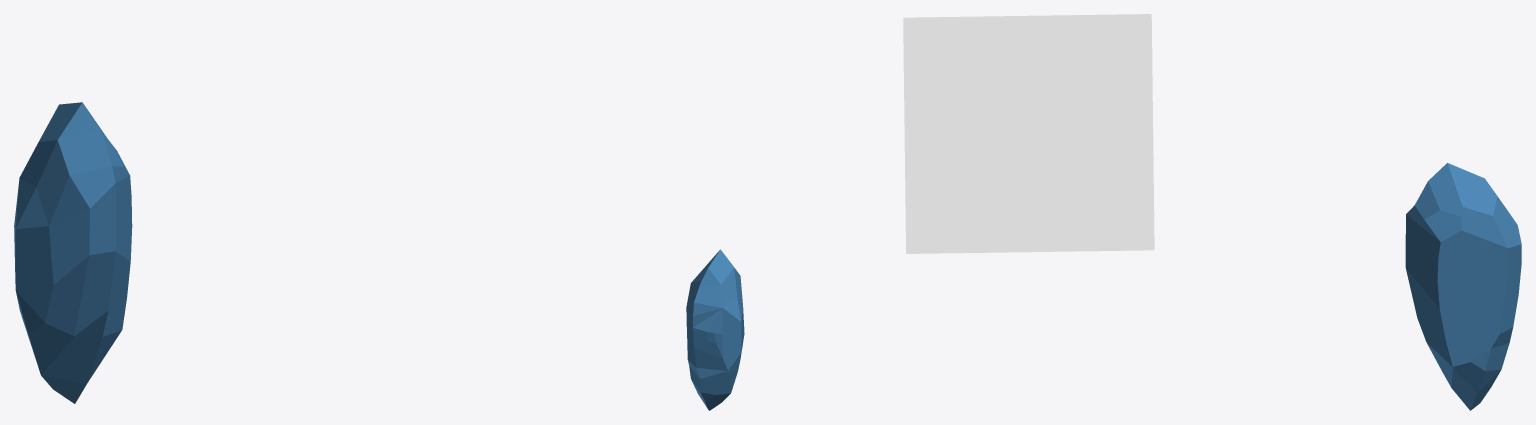
File: crystal-etheria.gltf
The picture shows the model from 3 angles, left to right: view 1: azimuth 30°, elevation 25°; view 2: azimuth 150°, elevation 25°; view 3: azimuth 270°, elevation 25°; orthographic projection. The views are drawn at different scales.
Parts seen in each view (by area): view 1: Plane; view 2: Plane; view 3: Plane.001, Plane.
Boxes of the visible parts, left/top/right/bottom form: Plane: left=14, top=102, right=132, bottom=403; Plane: left=686, top=249, right=744, bottom=410; Plane.001: left=903, top=14, right=1154, bottom=253; Plane: left=1405, top=163, right=1521, bottom=410.
Bounding box in the file's own units: 2.05 × 3.64 × 4.98.
